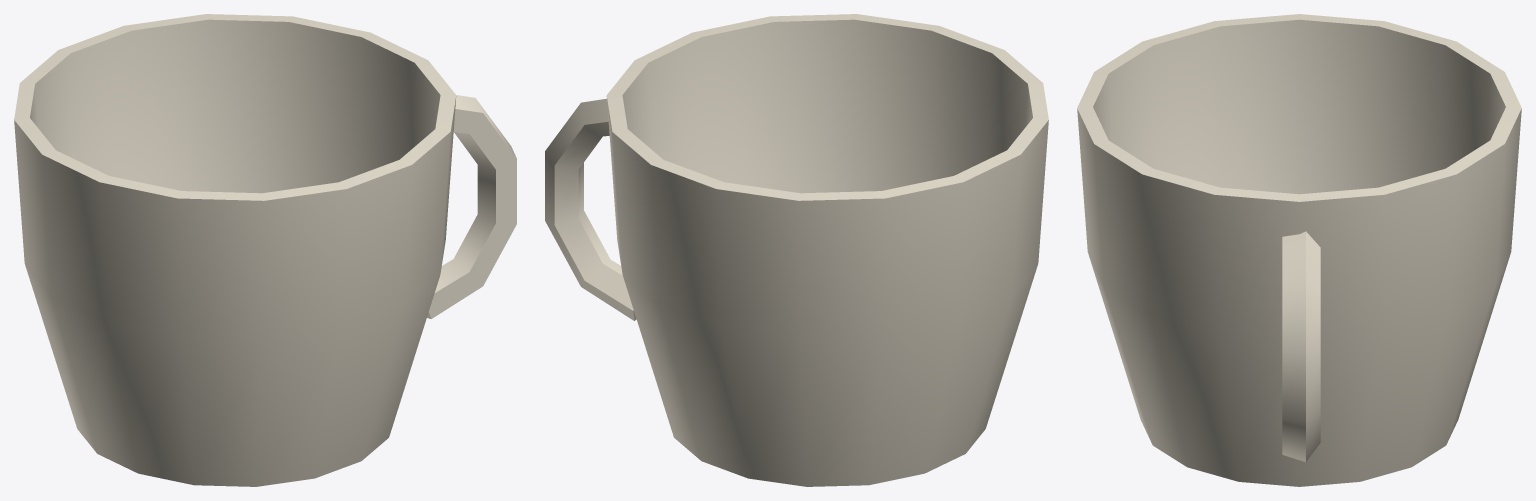
File: tpl_cucina_cup.glb
The picture shows the model from 3 angles, left to right: view 1: azimuth 30°, elevation 25°; view 2: azimuth 150°, elevation 25°; view 3: azimuth 270°, elevation 25°; orthographic projection.
Visible parts, largest first — view 1: tpl_cucina_cup; view 2: tpl_cucina_cup; view 3: tpl_cucina_cup.
Boxes of the visible parts, left/top/right/bottom form: tpl_cucina_cup: left=14, top=14, right=516, bottom=486; tpl_cucina_cup: left=545, top=14, right=1048, bottom=486; tpl_cucina_cup: left=1077, top=14, right=1521, bottom=486.
Bounding box in the file's own units: 0.1028 × 0.0652 × 0.084.
